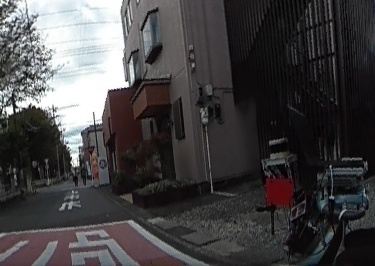person: (80, 164, 89, 185), (71, 165, 79, 188)
